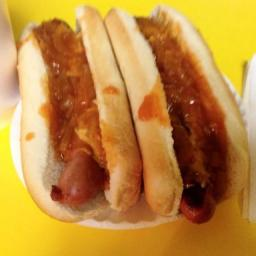hotdog: (42, 20, 100, 211), (139, 17, 201, 166), (178, 160, 224, 229)
